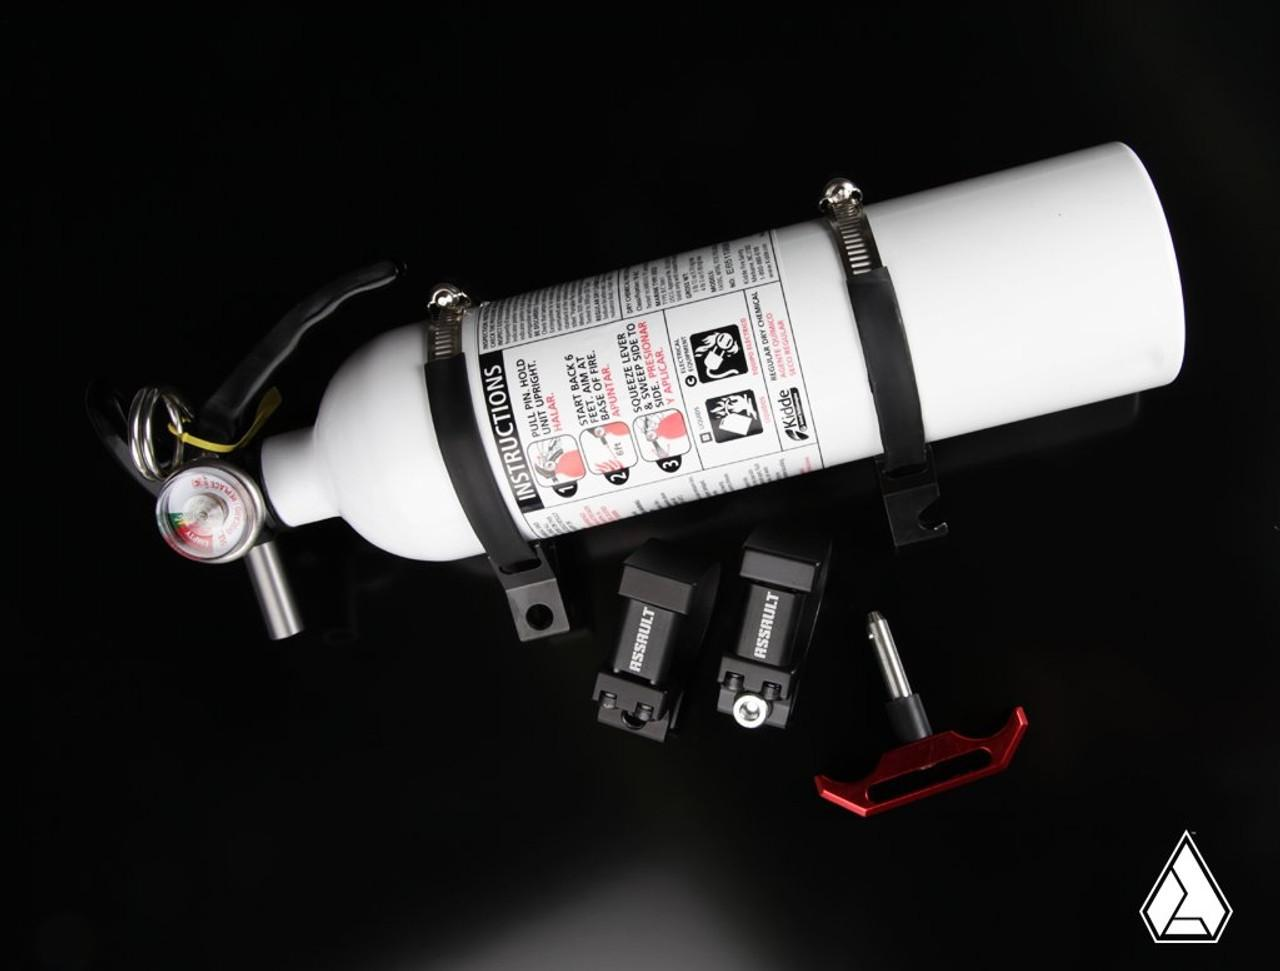Fire Extinguisher: (80, 102, 1213, 655)
